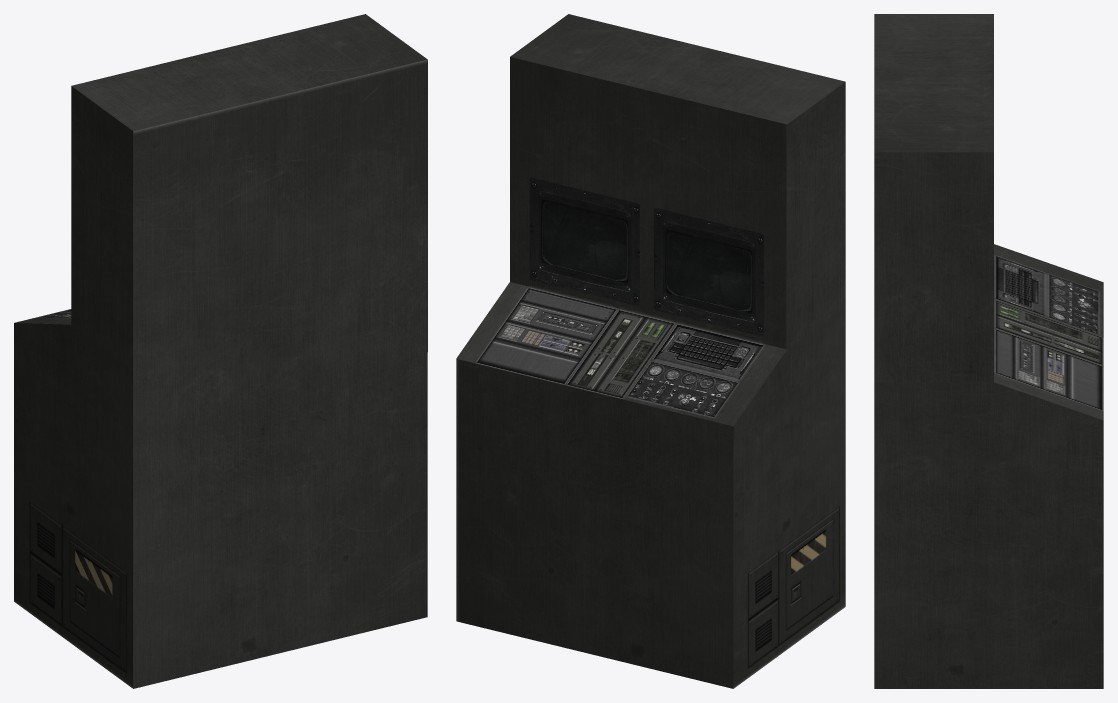
File: Server1.obj
The picture shows the model from 3 angles, left to right: view 1: azimuth 30°, elevation 25°; view 2: azimuth 150°, elevation 25°; view 3: azimuth 270°, elevation 25°; orthographic projection. The views are drawn at different scales.
Parts seen in each view (by area): view 1: Server11; view 2: Server11; view 3: Server11.
Part boxes in pixels (x1=…): Server11: x1=14, y1=14, x2=427, y2=688; Server11: x1=456, y1=14, x2=845, y2=688; Server11: x1=874, y1=14, x2=1103, y2=688.
Bounding box in the file's own units: 4.43 × 8.02 × 3.11.
Materials: 1 (1 with a texture image).
